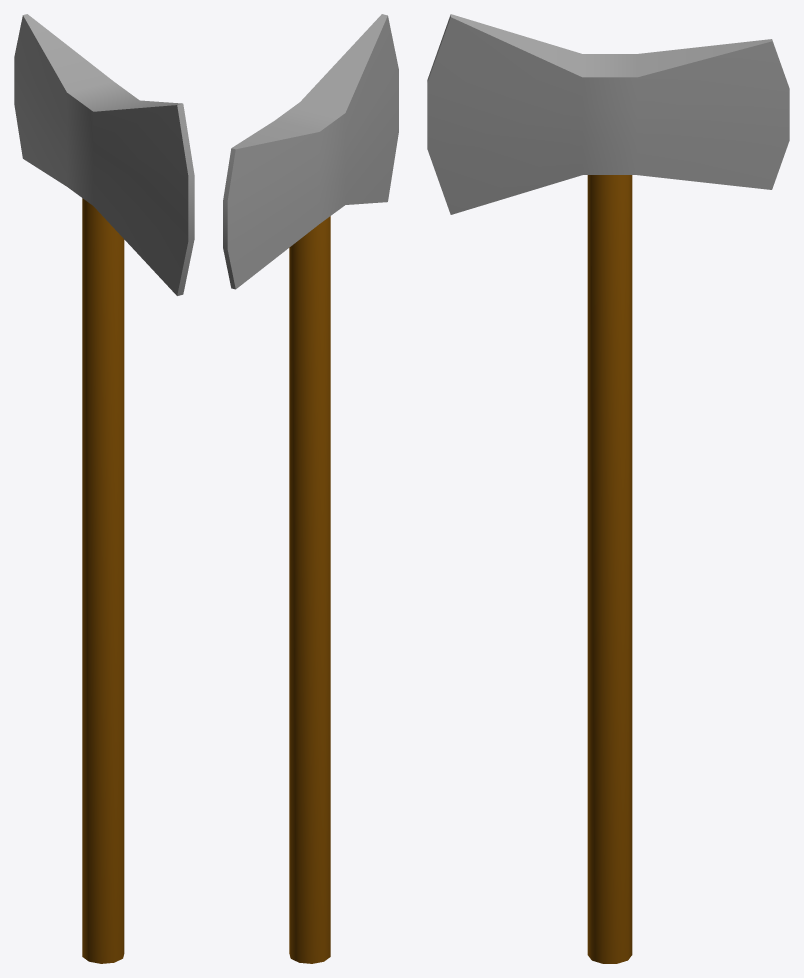
Rendered from SM_Prop_Axe.fbx.
3 views of the same model, side by side, from view 1: azimuth 30°, elevation 25°; view 2: azimuth 150°, elevation 25°; view 3: azimuth 270°, elevation 25° (orthographic). The views are drawn at different scales.
Parts seen in each view (by area): view 1: SM_Prop_Axe; view 2: SM_Prop_Axe; view 3: SM_Prop_Axe.
Part boxes in pixels (<box>): SM_Prop_Axe: <box>14,14,194,963</box>; SM_Prop_Axe: <box>223,14,398,963</box>; SM_Prop_Axe: <box>427,14,789,963</box>.
Bounding box in the file's own units: 4.66 × 87.04 × 30.42.
